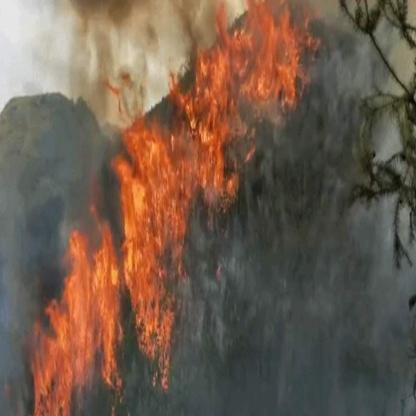fire: (20, 18, 318, 402)
